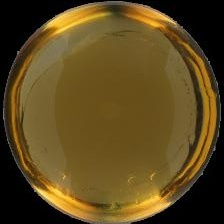24090-493: (0, 0, 224, 224)
